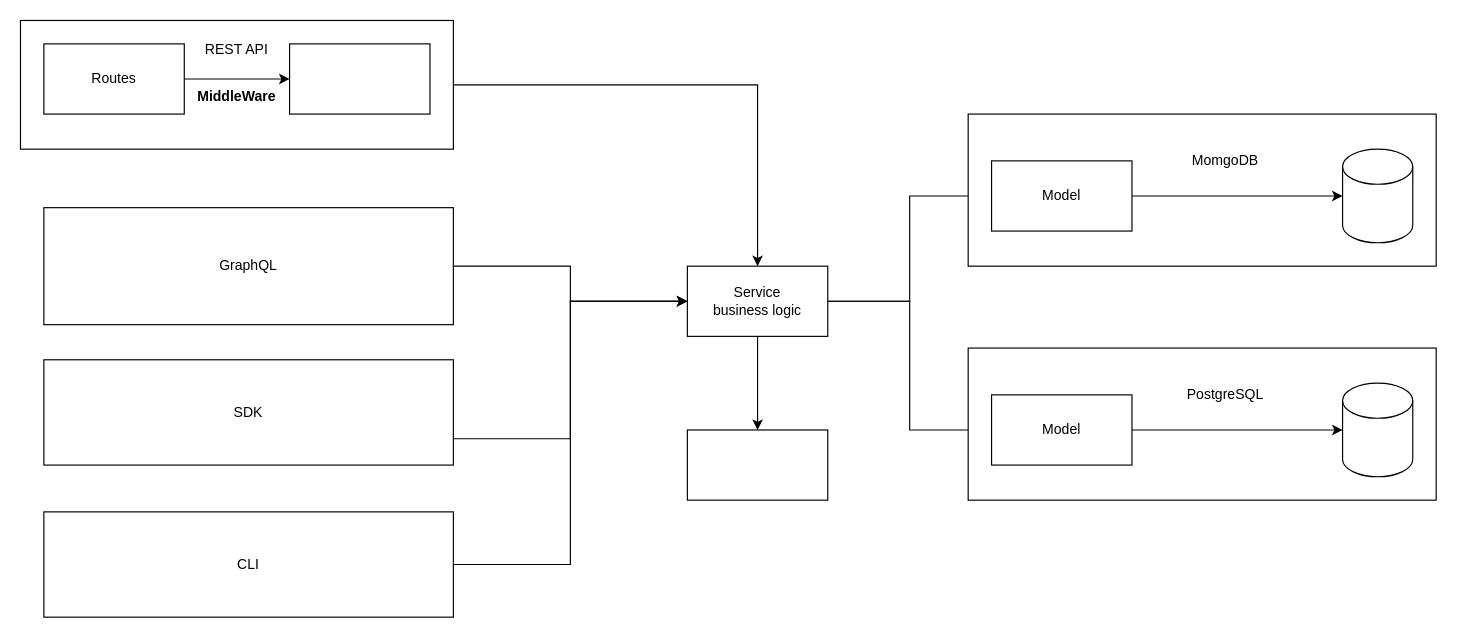
Some shapes in this 1457 by 638 pixel diagram are drawn without their labels. The centre of each missing label's shape, as x and y in pixels:
"Controller" belongs at point 359,78.
"Utilities/Helper Functions" belongs at point 757,464.
